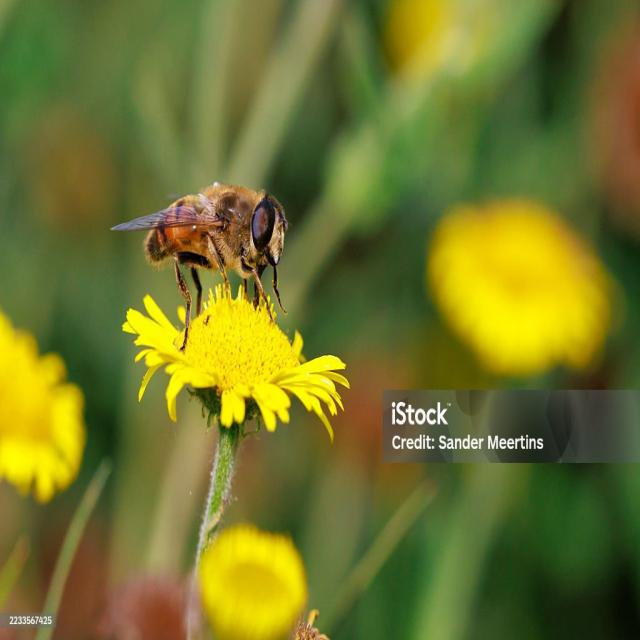hoverfly: (108, 182, 289, 350)
